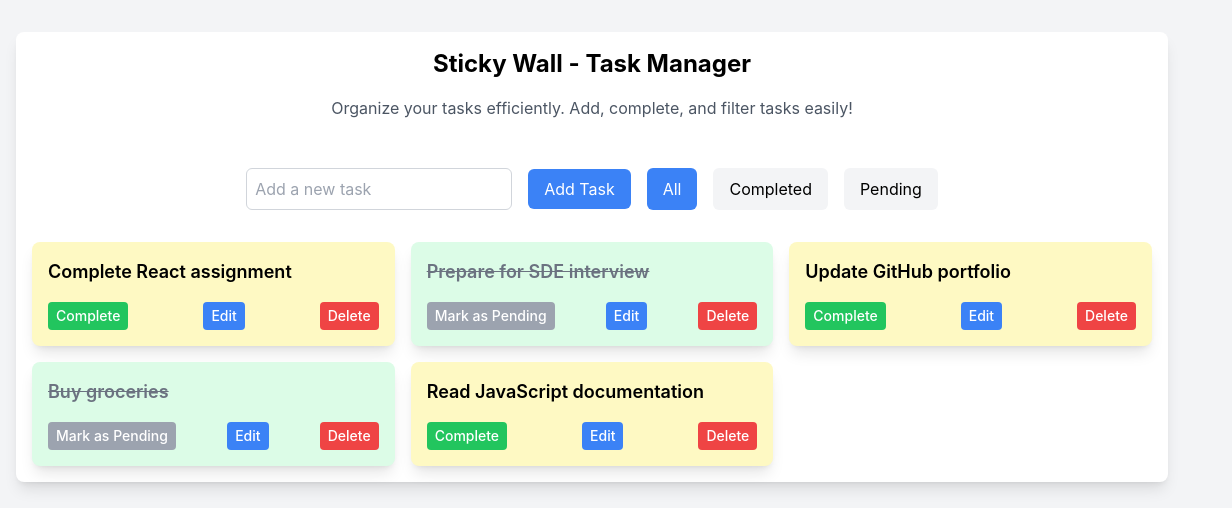
Test: Home › adds a task correctly
The image size is (1232, 508).
Type "New Task" into the field with placeholder "Add a new task" at (379, 189), box [246, 168, 512, 210]
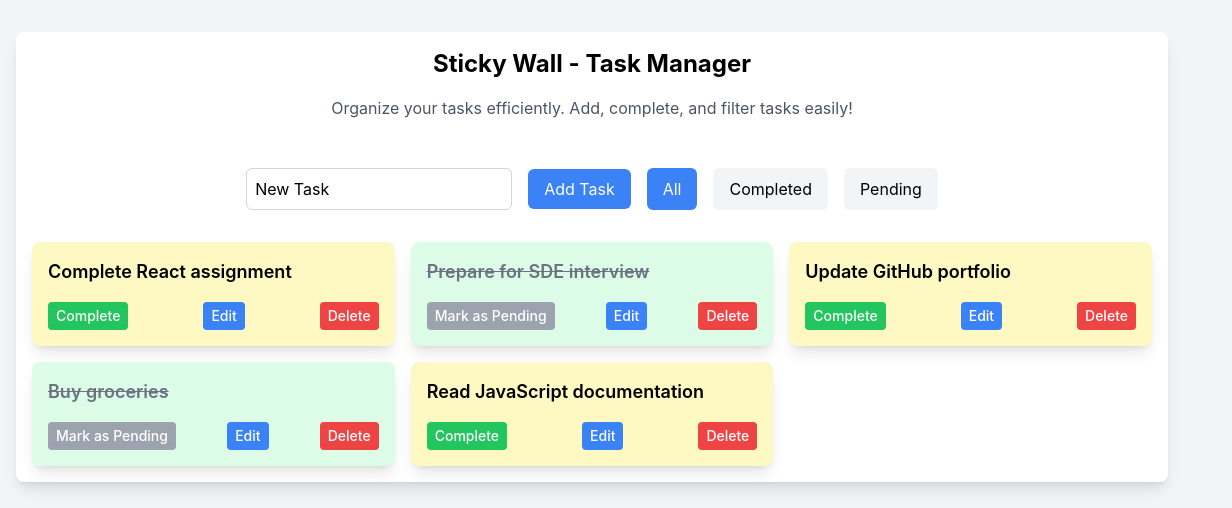
Click the button "Add Task" at (579, 189), box [528, 169, 631, 209]
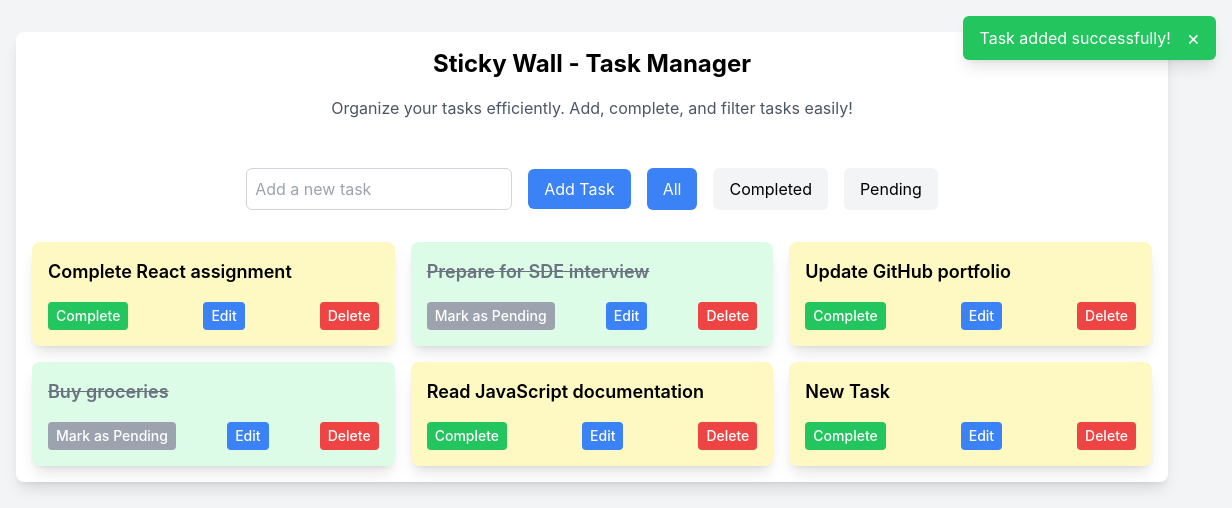
Check: the heading "New Task" is shown, box [805, 381, 890, 402]
